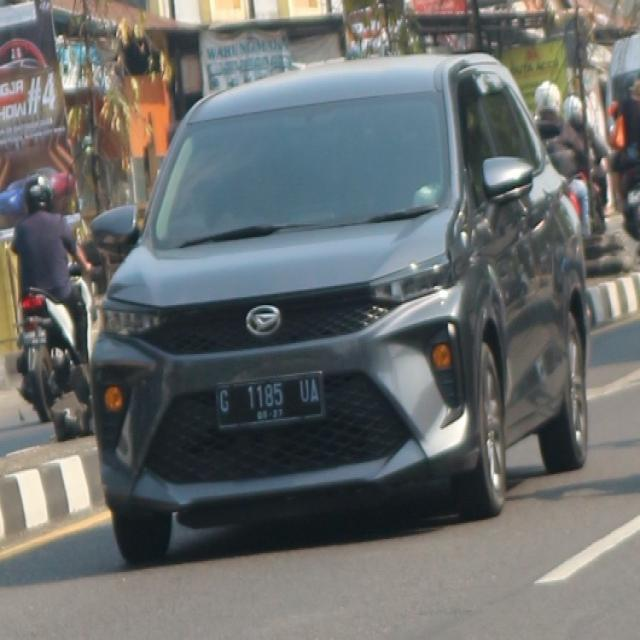Plate-Number: (210, 369, 323, 427)
